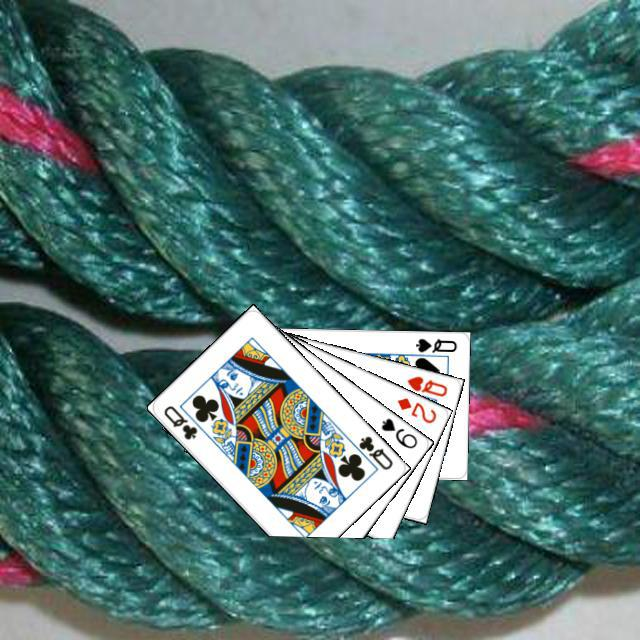2d: (392, 392, 438, 425)
9s: (376, 413, 419, 450)
Qc: (346, 431, 395, 473), (158, 401, 199, 441)
Qh: (402, 371, 449, 398)
Qs: (411, 333, 458, 354)
